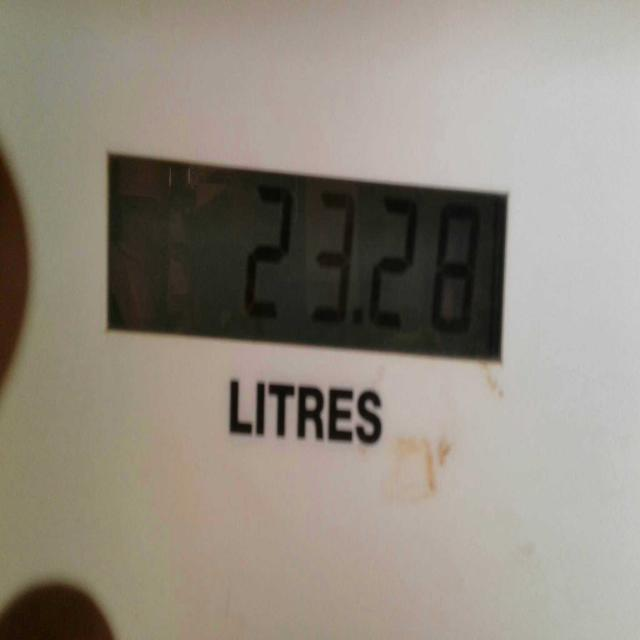.: (341, 295, 373, 341)
2: (236, 177, 298, 334), (361, 192, 423, 346)
3: (302, 181, 358, 353)
8: (426, 196, 494, 361)
